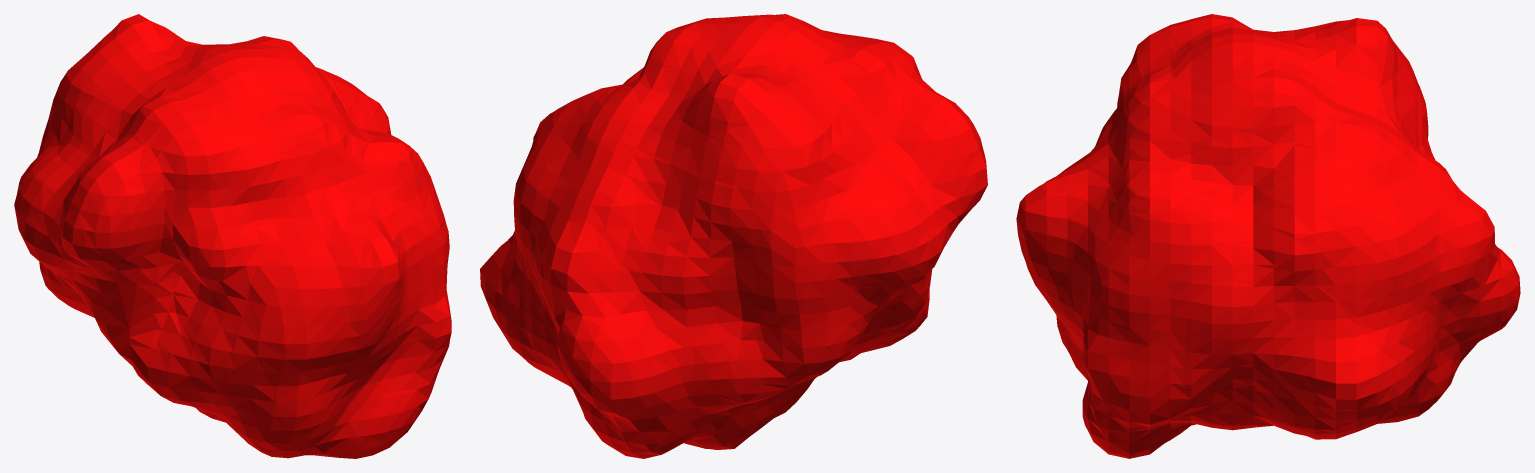
The model's file is tdcF_coarse.dae.
3 renders of one model, left to right at view 1: azimuth 30°, elevation 25°; view 2: azimuth 150°, elevation 25°; view 3: azimuth 270°, elevation 25°, orthographic. The views are drawn at different scales.
Visible parts, largest first — view 1: tdcF; view 2: tdcF; view 3: tdcF.
Boxes of the visible parts, <box> form: tdcF: <box>14,14,451,458</box>; tdcF: <box>480,14,987,458</box>; tdcF: <box>1016,14,1520,458</box>.
Size of the model in its own units: 55.92 by 51.09 by 61.45.
